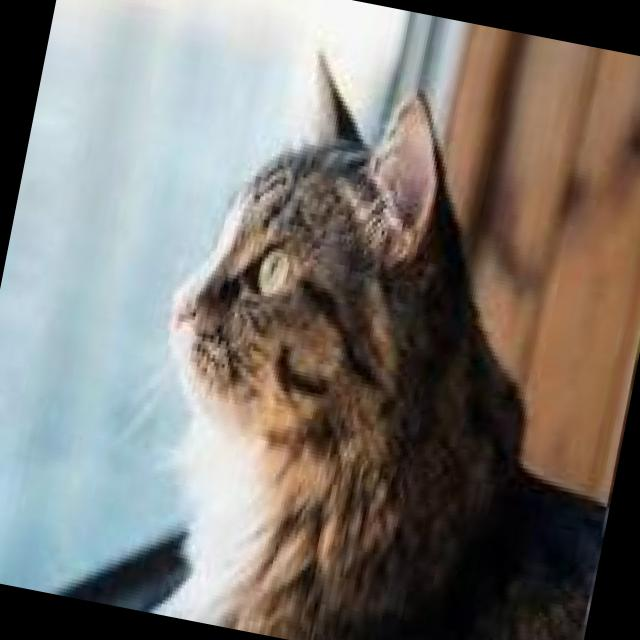Gato: (112, 21, 640, 640)
